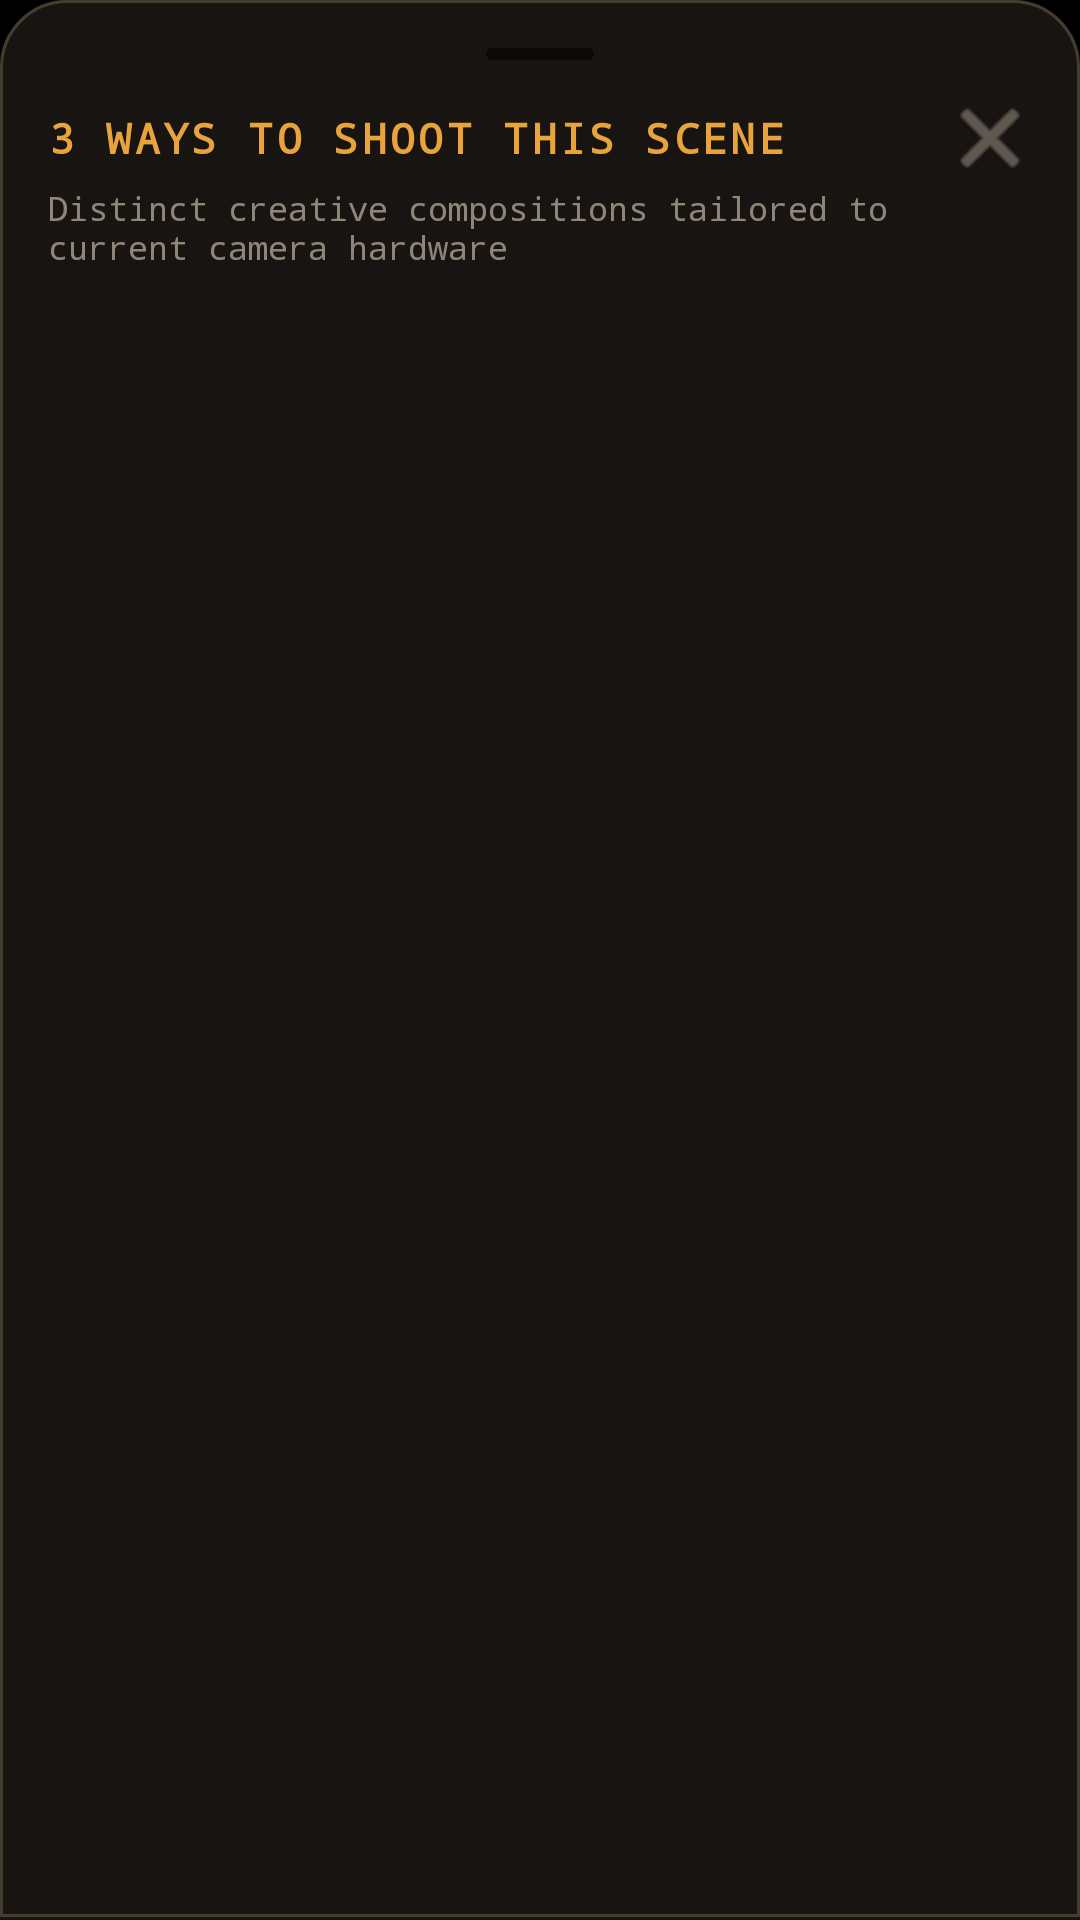

Locate icon controls on the screen. Image size 1080px x 1920px, boxes as (x1, y1, x2, y2).
Close: (961, 108, 1019, 167)
